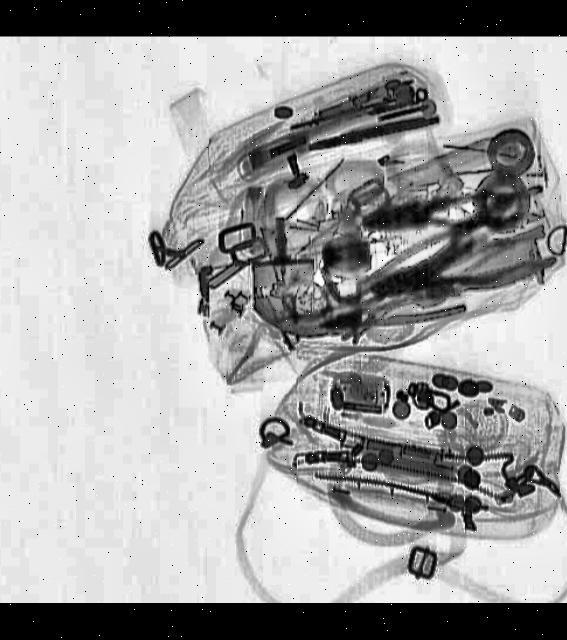Pliers: (364, 226, 558, 321), (360, 185, 546, 242), (316, 285, 466, 344)
